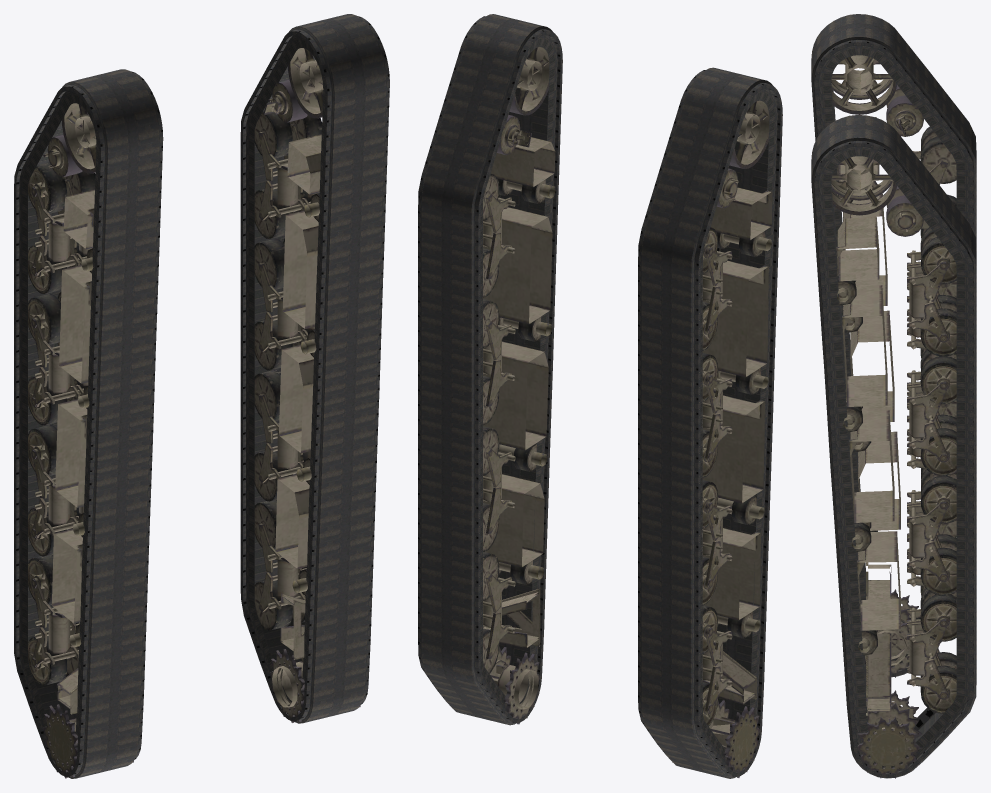
The model's file is Chassis.glb.
The picture shows the model from 3 angles, left to right: view 1: azimuth 30°, elevation 25°; view 2: azimuth 150°, elevation 25°; view 3: azimuth 270°, elevation 25°; orthographic projection. The views are drawn at different scales.
Parts seen in each view (by area): view 1: set_0_group_0, set_1_group_0, set_3_group_0, set_2_group_0; view 2: set_1_group_0, set_0_group_0, set_3_group_0, set_2_group_0; view 3: set_3_group_0, set_0_group_0, set_2_group_0, set_1_group_0.
Part boxes in pixels (x1,y1,x2,y2): set_0_group_0: (240, 14, 389, 723); set_1_group_0: (14, 69, 163, 778); set_3_group_0: (254, 48, 365, 722); set_2_group_0: (28, 103, 138, 778); set_1_group_0: (638, 67, 782, 778); set_0_group_0: (418, 14, 562, 725); set_3_group_0: (483, 47, 555, 724); set_2_group_0: (672, 100, 772, 777); set_3_group_0: (831, 156, 956, 778); set_0_group_0: (811, 115, 976, 778); set_2_group_0: (831, 55, 956, 677); set_1_group_0: (811, 14, 976, 677).
Bounding box in the file's own units: 3.09 × 7.07 × 1.65.
Materials: 4 (4 with a texture image).
